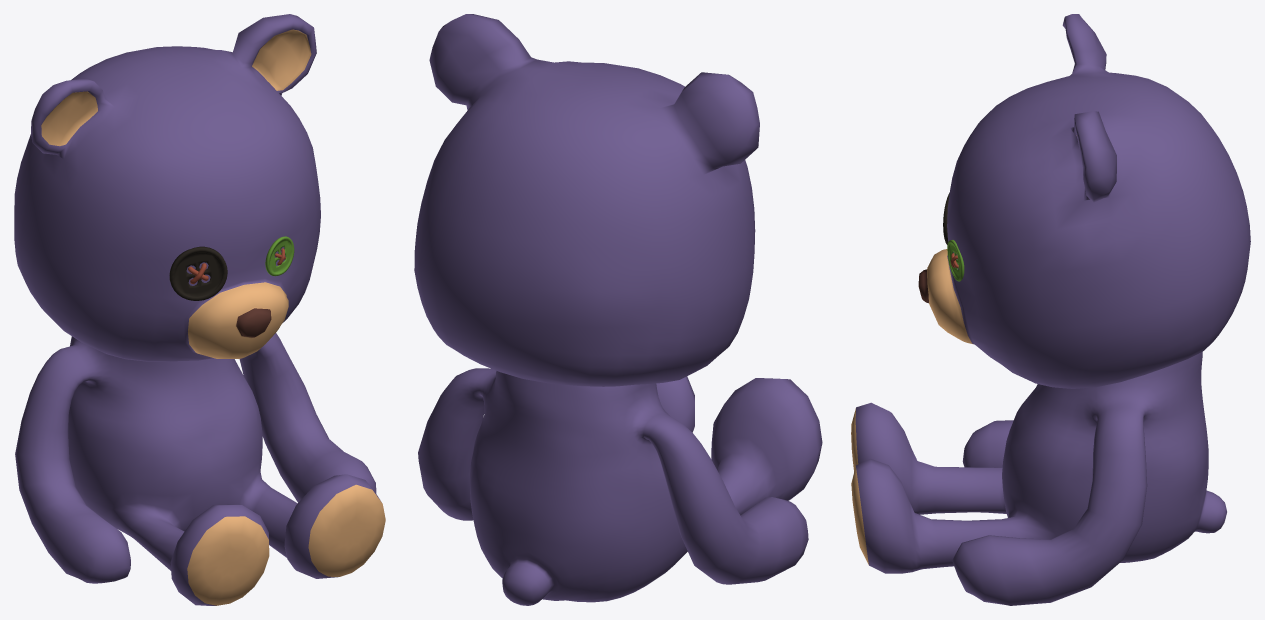
The model's file is Teddybär.fbx.
3 views of the same model, side by side, from view 1: azimuth 30°, elevation 25°; view 2: azimuth 150°, elevation 25°; view 3: azimuth 270°, elevation 25° (orthographic). The views are drawn at different scales.
Parts seen in each view (by area): view 1: Cube.001; view 2: Cube.001; view 3: Cube.001.
Part boxes in pixels (left/top/right/bottom): Cube.001: left=14, top=14, right=385, bottom=605; Cube.001: left=414, top=14, right=822, bottom=605; Cube.001: left=851, top=14, right=1250, bottom=605.
Size of the model in its own units: 65.93 by 98.26 by 75.11.
